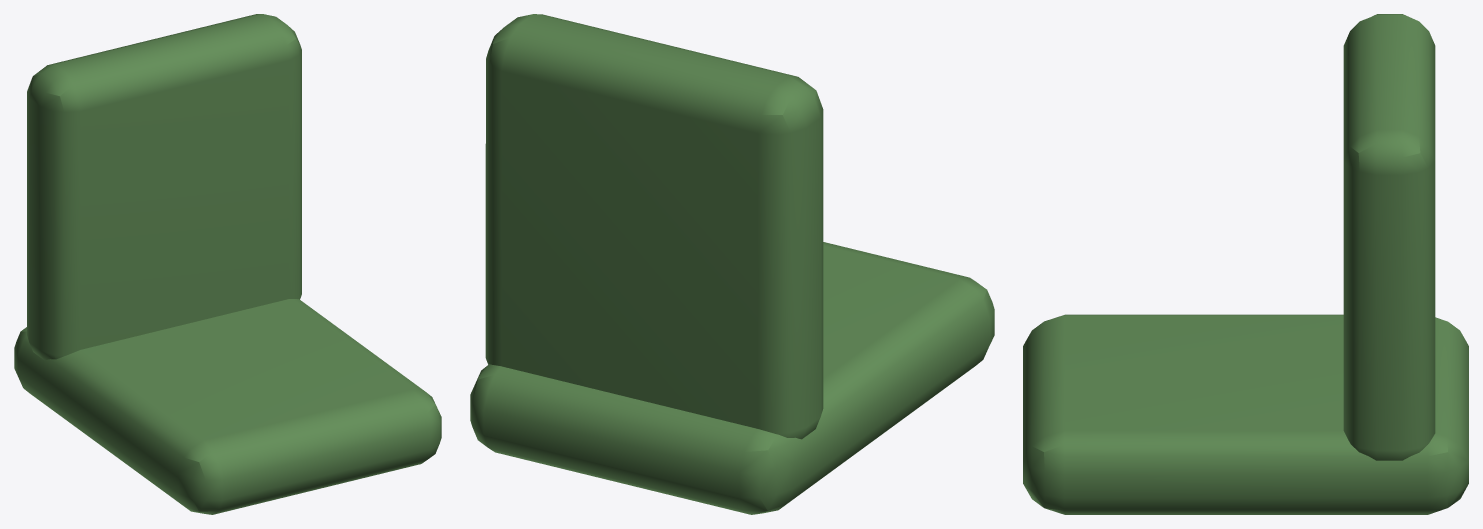
Rendered from 座椅子.fbx.
3 views of the same model, side by side, from view 1: azimuth 30°, elevation 25°; view 2: azimuth 150°, elevation 25°; view 3: azimuth 270°, elevation 25° (orthographic). The views are drawn at different scales.
Visible parts, largest first — view 1: pCube37; view 2: pCube37; view 3: pCube37.
Boxes of the visible parts, x1,y1,x2,y2 form: pCube37: [14, 14, 441, 514]; pCube37: [470, 14, 994, 514]; pCube37: [1023, 14, 1468, 514].
Size of the model in its own units: 21.24 by 26.58 by 27.95.
